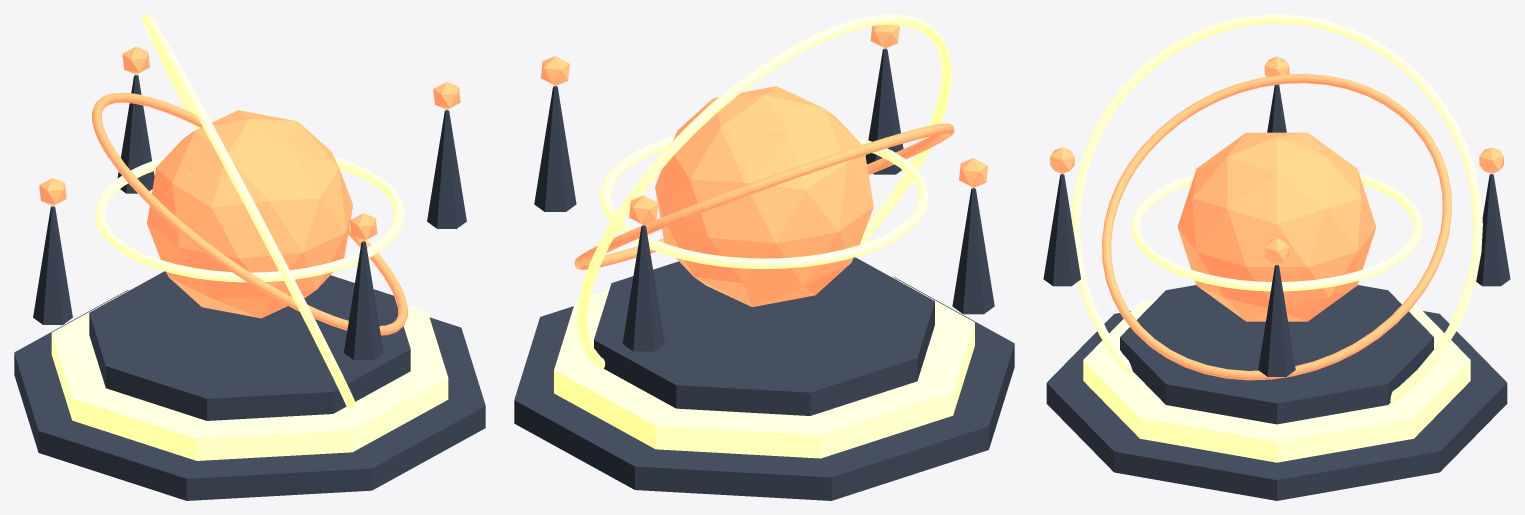
File: gpu-blender-v28.glb
3 renders of one model, left to right at view 1: azimuth 30°, elevation 25°; view 2: azimuth 150°, elevation 25°; view 3: azimuth 270°, elevation 25°, orthographic. The views are drawn at different scales.
Parts seen in each view (by area): view 1: Cylinder.002, SovereignCore_likeness-desk, Cylinder, Cylinder.001, Torus.001, Torus.002, Torus, Cone.003, Cone, Cone.002, Cone.001, Icosphere.002 (+3 smaller); view 2: Cylinder.002, SovereignCore_likeness-desk, Cylinder, Cylinder.001, Torus.002, Torus, Torus.001, Cone.002, Cone.001, Cone, Cone.003, Icosphere (+3 smaller); view 3: SovereignCore_likeness-desk, Cylinder.002, Cylinder, Cylinder.001, Torus.001, Torus.002, Torus, Cone.003, Cone, Cone.001, Cone.002, Icosphere (+2 smaller).
Boxes of the visible parts, left/top/right/bottom form: Cylinder.002: left=89, top=271, right=410, bottom=420; SovereignCore_likeness-desk: left=147, top=110, right=352, bottom=318; Cylinder: left=14, top=290, right=485, bottom=500; Cylinder.001: left=51, top=280, right=448, bottom=460; Torus.001: left=92, top=92, right=407, bottom=335; Torus.002: left=142, top=14, right=356, bottom=408; Torus: left=95, top=157, right=404, bottom=282; Cone.003: left=343, top=241, right=383, bottom=360; Cone: left=427, top=110, right=466, bottom=228; Cone.002: left=33, top=206, right=72, bottom=324; Cone.001: left=117, top=75, right=154, bottom=193; Icosphere.002: left=39, top=178, right=66, bottom=205; Cylinder.002: left=594, top=257, right=934, bottom=415; SovereignCore_likeness-desk: left=655, top=86, right=873, bottom=307; Cylinder: left=514, top=277, right=1014, bottom=500; Cylinder.001: left=554, top=266, right=974, bottom=458; Torus.002: left=577, top=14, right=951, bottom=369; Torus: left=600, top=136, right=928, bottom=268; Torus.001: left=574, top=123, right=954, bottom=269; Cone.002: left=952, top=188, right=994, bottom=314; Cone.001: left=622, top=225, right=664, bottom=351; Cone: left=534, top=86, right=576, bottom=211; Cone.003: left=865, top=48, right=903, bottom=174; Icosphere: left=540, top=56, right=569, bottom=85; SovereignCore_likeness-desk: left=1177, top=132, right=1376, bottom=321; Cylinder.002: left=1120, top=285, right=1433, bottom=424; Cylinder: left=1046, top=311, right=1507, bottom=500; Cylinder.001: left=1083, top=299, right=1470, bottom=462; Torus.001: left=1102, top=73, right=1451, bottom=380; Torus.002: left=1071, top=14, right=1482, bottom=403; Torus: left=1131, top=174, right=1422, bottom=291; Cone.003: left=1043, top=174, right=1080, bottom=286; Cone: left=1258, top=265, right=1295, bottom=376; Cone.001: left=1476, top=174, right=1510, bottom=286; Cone.002: left=1267, top=84, right=1286, bottom=132; Icosphere: left=1264, top=238, right=1289, bottom=264.
Size of the model in its own units: 4.41 by 3.72 by 4.46.
